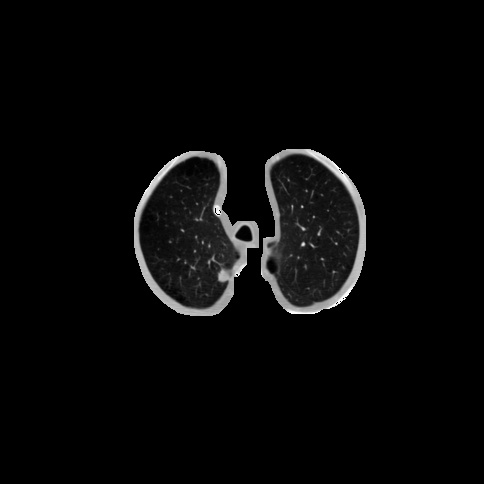PN: (216, 270, 228, 282)
